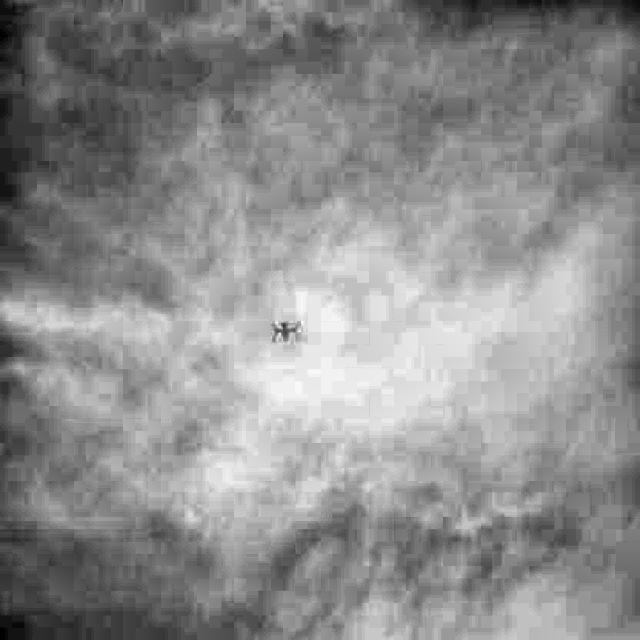V22: (271, 321, 300, 342)
